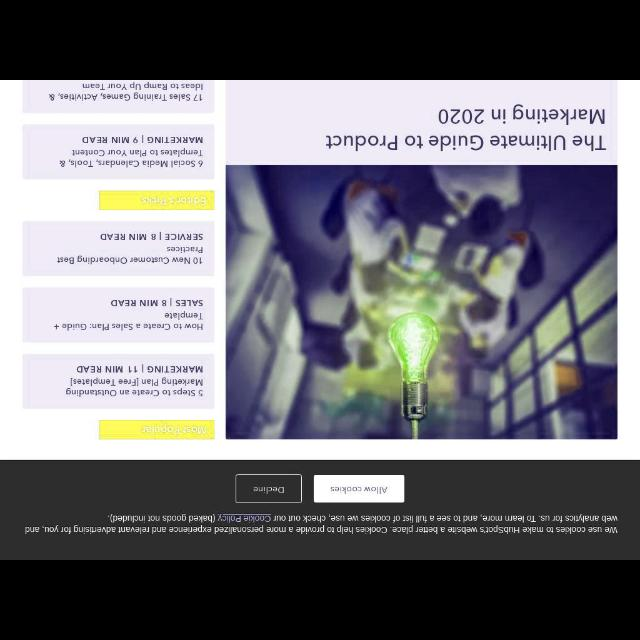iframe: (1, 460, 640, 560)
image: (226, 165, 616, 439)
link: (218, 514, 270, 522)
text: (25, 512, 618, 534), (325, 109, 605, 150), (60, 136, 204, 168), (57, 233, 203, 264), (54, 300, 204, 330), (66, 367, 204, 397), (49, 82, 202, 101), (142, 197, 205, 206), (141, 426, 205, 434)
textbutton: (313, 474, 405, 502), (235, 474, 301, 504)
